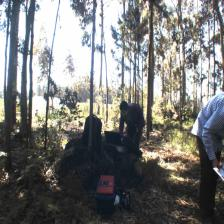trunktrack_idkeyframe: (4, 46, 17, 150), (81, 51, 88, 151), (140, 63, 150, 120), (13, 61, 20, 134), (38, 98, 42, 145)
